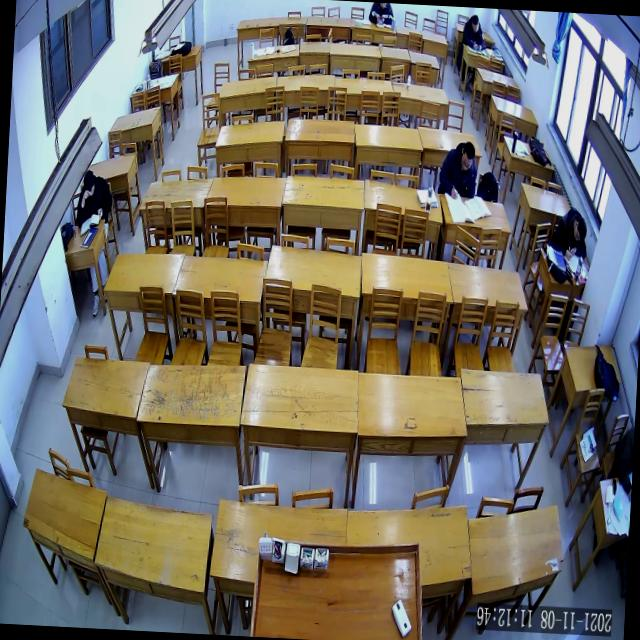down: (459, 138, 477, 172), (572, 212, 588, 245), (82, 168, 99, 198), (470, 14, 480, 34)
sit: (437, 139, 479, 200), (76, 168, 114, 232), (550, 204, 590, 264), (461, 12, 486, 52)
